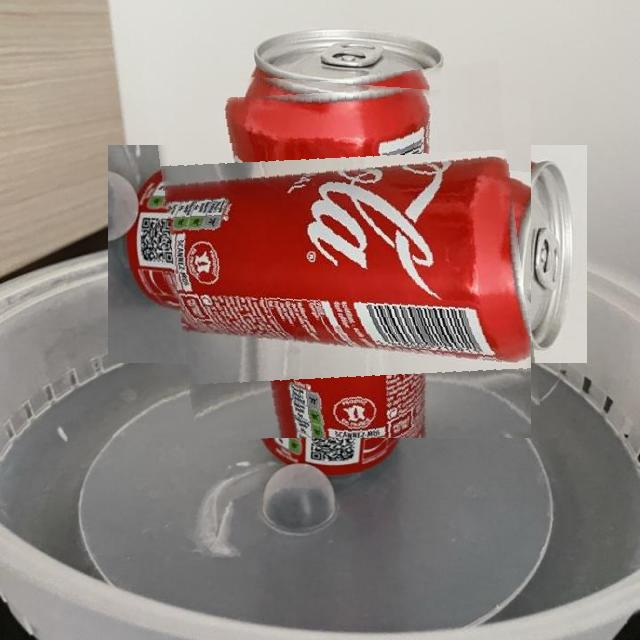recyclable: (163, 70, 531, 438)
